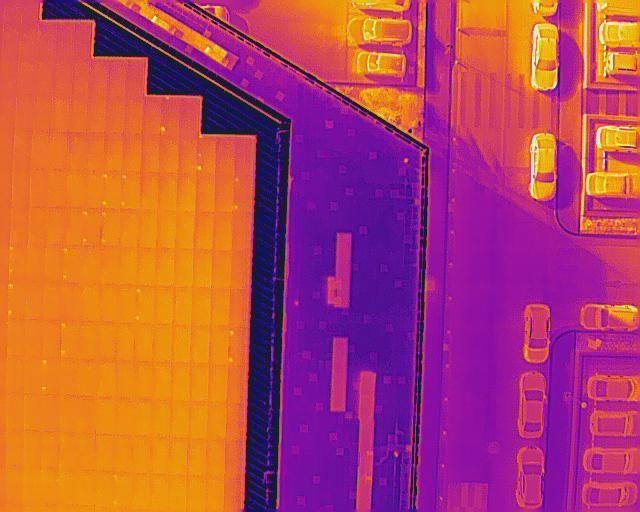Cell-Multi: (120, 173, 141, 210), (233, 172, 252, 212), (228, 326, 247, 366), (160, 95, 179, 134), (136, 285, 154, 326), (7, 283, 26, 321), (102, 172, 121, 209), (197, 136, 216, 173), (60, 323, 79, 360), (101, 209, 119, 248), (63, 247, 82, 283), (41, 358, 59, 395), (82, 211, 100, 247)
No-Anomaly: (153, 286, 175, 326), (116, 248, 137, 287), (175, 211, 196, 249), (140, 134, 160, 173), (130, 473, 150, 512), (187, 401, 207, 440), (193, 212, 214, 249), (232, 211, 251, 251), (118, 210, 138, 248), (27, 209, 47, 247), (196, 173, 216, 211), (157, 173, 177, 211), (159, 134, 179, 172), (172, 324, 191, 364), (115, 324, 135, 362), (79, 323, 99, 361), (18, 22, 38, 60), (224, 438, 244, 476), (112, 435, 132, 473), (131, 398, 151, 436), (77, 397, 97, 435), (136, 248, 155, 287), (177, 172, 196, 211), (153, 325, 172, 364), (112, 473, 131, 512), (173, 287, 192, 326), (193, 286, 212, 325), (80, 286, 100, 323), (192, 249, 212, 286), (139, 173, 159, 210), (13, 135, 33, 172), (121, 135, 141, 172), (208, 365, 228, 402), (78, 361, 98, 398), (88, 97, 108, 134), (125, 59, 145, 96), (37, 22, 57, 59), (74, 435, 94, 472), (116, 286, 135, 324), (26, 284, 45, 322), (155, 249, 174, 287), (99, 247, 118, 285), (157, 211, 176, 249), (138, 210, 157, 248), (215, 135, 234, 173), (168, 474, 187, 512), (230, 288, 249, 326), (211, 287, 230, 325), (131, 435, 150, 473), (93, 434, 112, 472), (22, 431, 41, 469), (151, 400, 170, 438), (114, 397, 133, 435), (75, 471, 95, 507), (234, 136, 254, 172), (69, 133, 87, 173), (210, 325, 228, 365), (169, 400, 189, 436), (18, 62, 39, 96), (23, 469, 42, 506), (227, 366, 246, 403), (153, 363, 172, 400), (172, 362, 191, 399), (5, 356, 24, 393), (35, 96, 54, 133), (207, 402, 226, 439), (44, 283, 62, 322), (175, 248, 193, 287), (34, 134, 52, 173), (104, 134, 122, 173), (98, 324, 116, 363), (17, 95, 35, 134), (150, 436, 168, 475), (49, 174, 69, 209), (88, 60, 108, 95), (99, 286, 117, 324), (62, 284, 80, 322), (5, 468, 23, 506), (231, 251, 250, 287), (213, 251, 232, 287), (81, 248, 99, 286), (214, 212, 232, 250), (10, 208, 28, 246), (178, 136, 197, 172), (190, 364, 209, 400), (98, 361, 116, 399), (191, 325, 209, 363), (186, 476, 205, 512), (179, 99, 198, 135), (142, 97, 160, 135), (109, 59, 127, 97), (56, 23, 75, 59), (207, 439, 225, 477), (226, 403, 245, 439), (41, 395, 59, 433), (27, 247, 45, 284), (9, 245, 27, 282), (47, 210, 65, 247), (215, 175, 233, 212), (6, 393, 24, 430), (134, 362, 152, 399), (135, 326, 153, 363), (25, 321, 43, 358), (150, 475, 168, 512), (108, 96, 126, 133), (72, 59, 90, 96), (73, 23, 91, 60), (168, 437, 186, 474), (30, 174, 49, 209), (6, 321, 25, 356), (187, 440, 206, 475), (96, 399, 115, 434), (87, 134, 104, 173), (52, 134, 69, 173), (5, 430, 22, 469), (116, 362, 134, 398), (60, 359, 78, 395), (225, 476, 243, 512), (23, 395, 41, 431), (205, 478, 224, 512), (125, 97, 142, 135), (41, 432, 58, 470), (45, 248, 63, 283), (65, 210, 82, 247), (68, 173, 85, 210), (24, 358, 41, 395), (43, 322, 60, 359), (59, 397, 76, 434), (94, 471, 111, 507), (58, 472, 76, 506), (85, 174, 102, 210), (12, 173, 29, 209), (54, 97, 71, 133), (56, 61, 73, 97), (41, 471, 58, 506), (38, 61, 55, 96), (71, 96, 87, 133), (59, 434, 75, 471)
